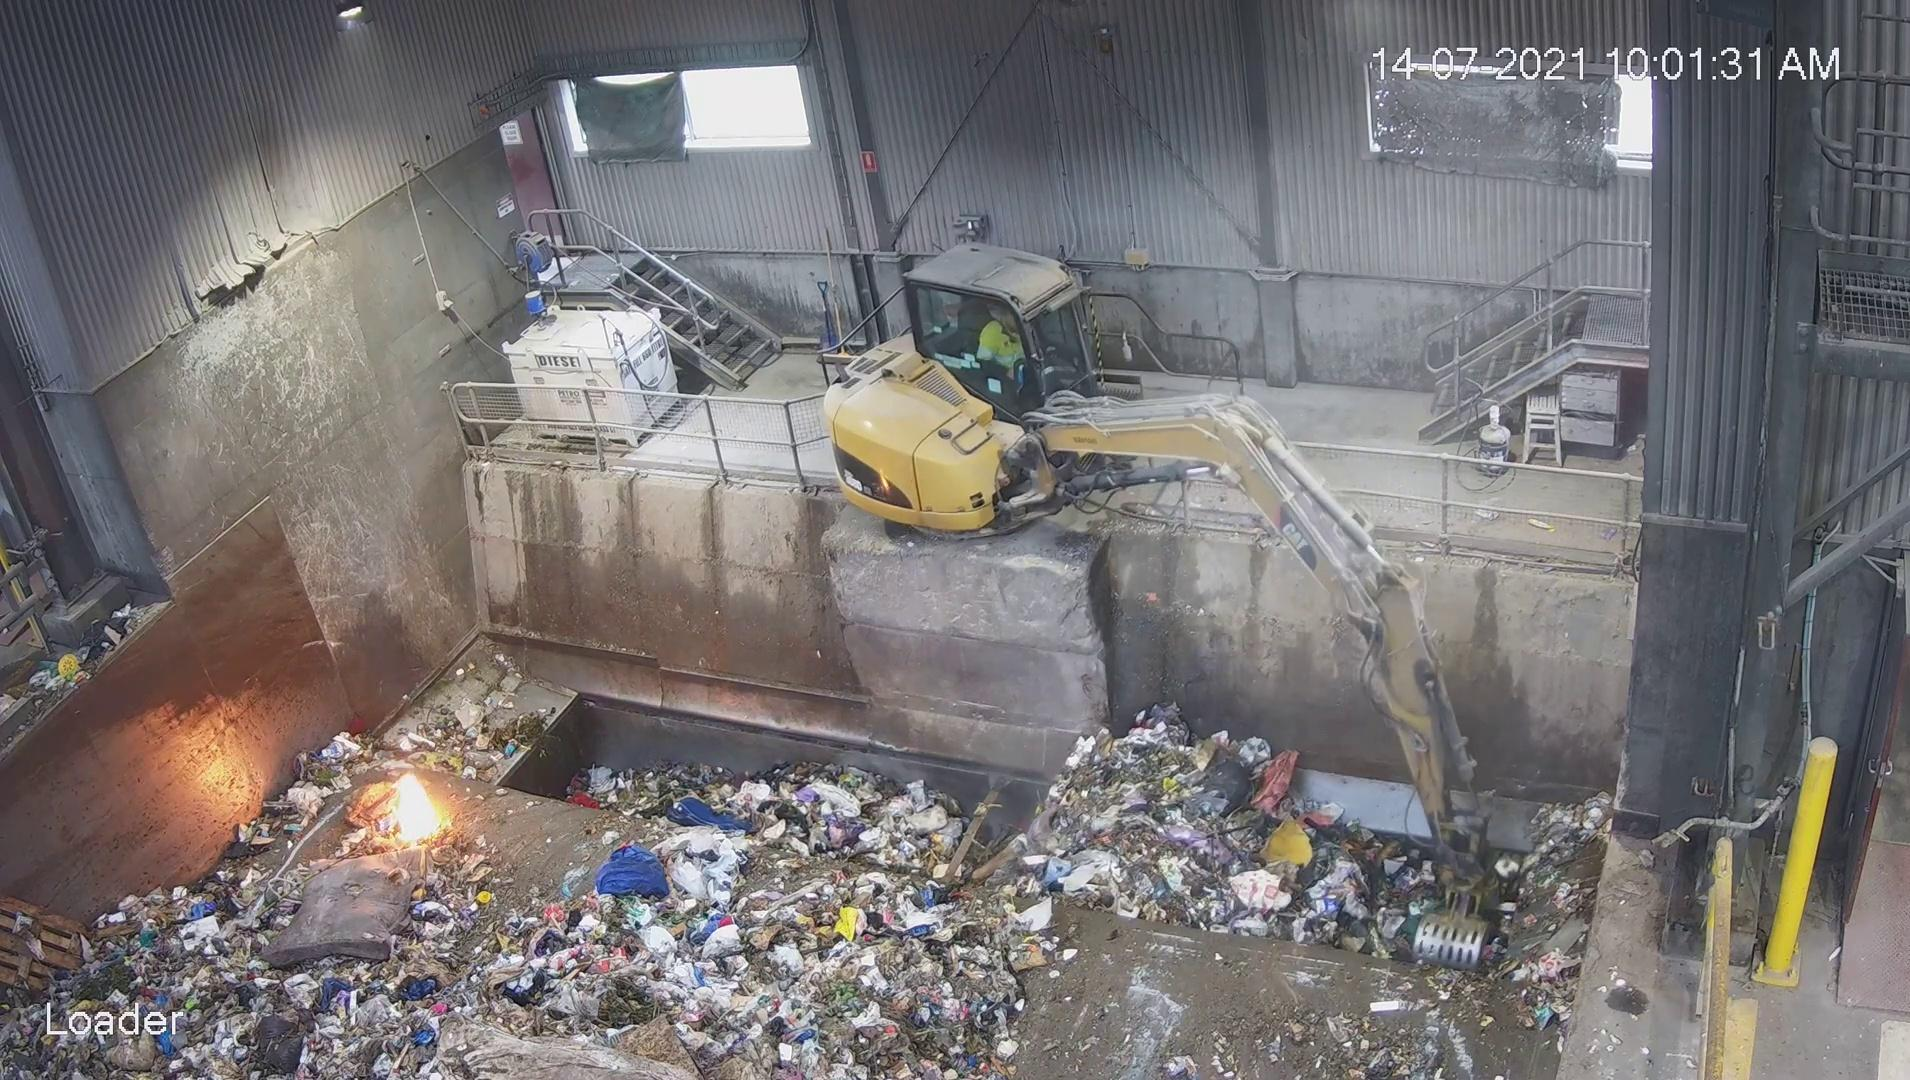fire: (161, 692, 640, 909)
